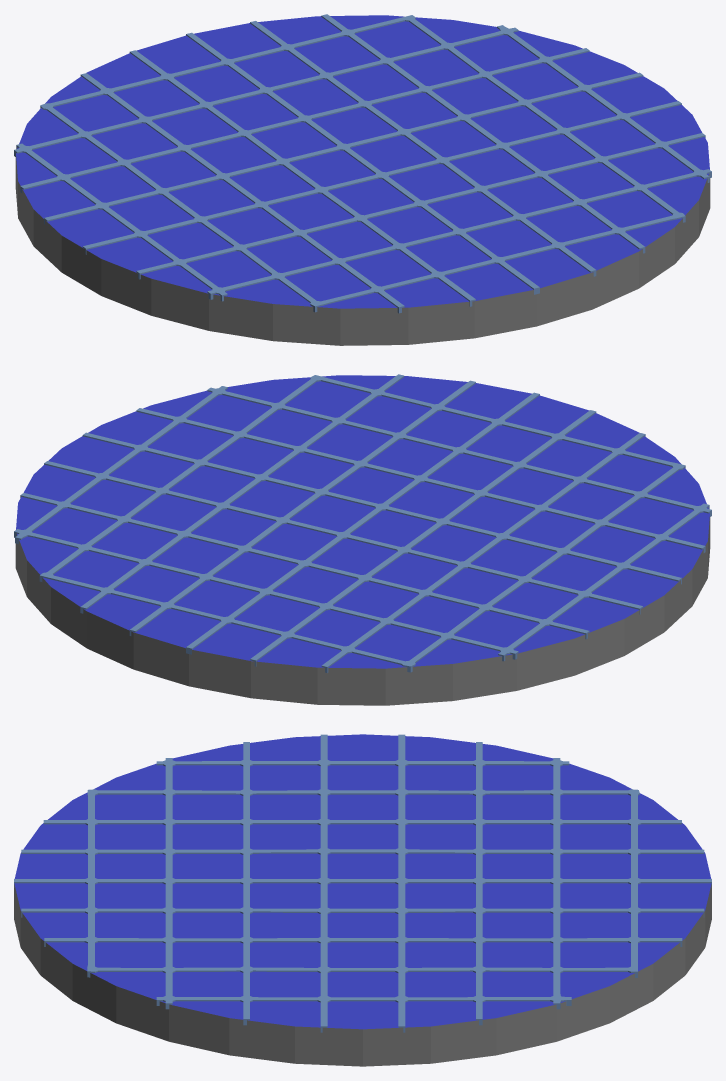
File: Wafer.fbx
3 views of the same model, one above another, from view 1: azimuth 30°, elevation 25°; view 2: azimuth 150°, elevation 25°; view 3: azimuth 270°, elevation 25° (orthographic).
Visible parts, largest first — view 1: Wafer; view 2: Wafer; view 3: Wafer.
Part boxes in pixels (bbox=[...]): Wafer: bbox=[14, 14, 711, 345]; Wafer: bbox=[14, 374, 711, 705]; Wafer: bbox=[14, 734, 711, 1066].
Bounding box in the file's own units: 200 × 12.2 × 200.
